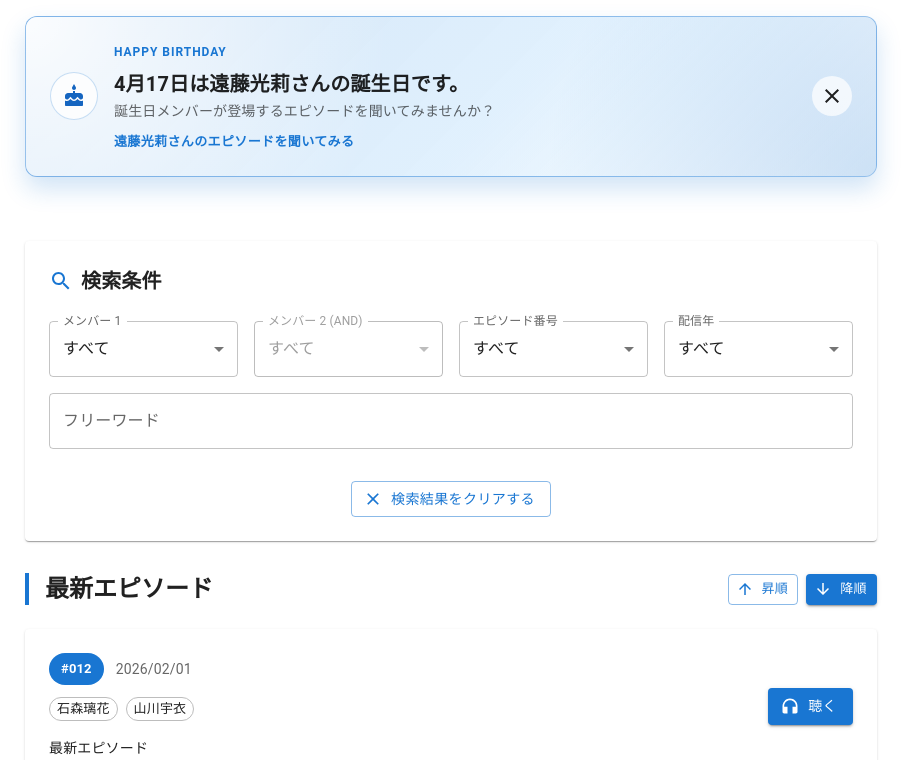
Test: SearchContainer › 誕生日バナーの導線からメンバー1と検索結果を更新する
Click the button "遠藤光莉さんのエピソードを聞いてみる": (234, 142) x1=114 y1=129 x2=354 y2=156
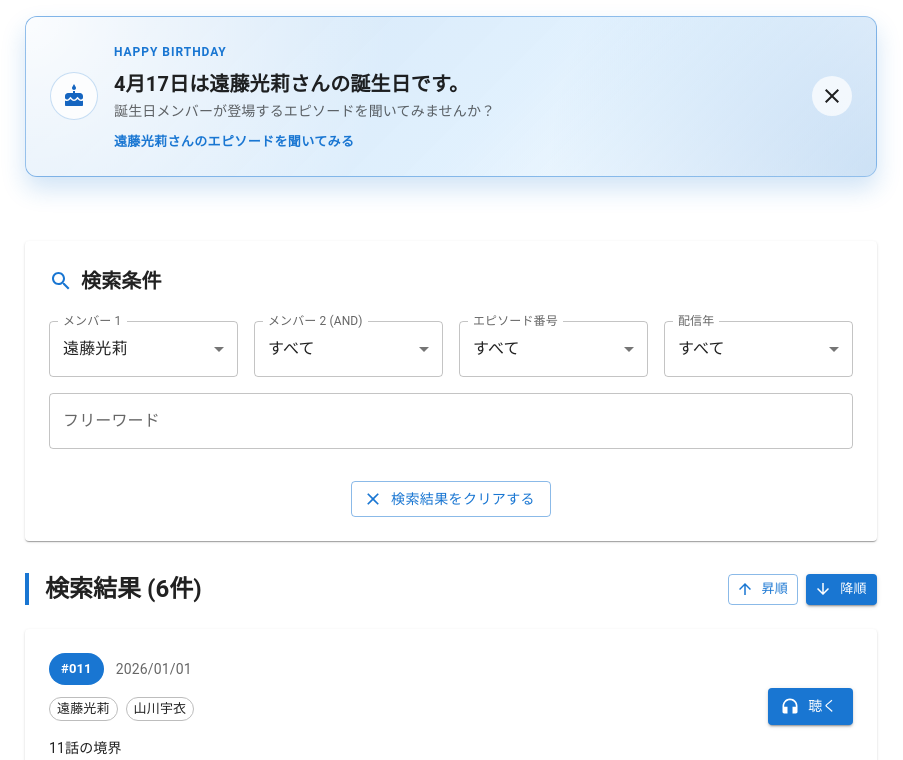
Now the dropdown named "メンバー 1" reads "遠藤光莉", box x1=63 y1=339 x2=128 y2=358
Now the heading "検索結果 (6件)" is shown, box x1=25 y1=573 x2=202 y2=605
